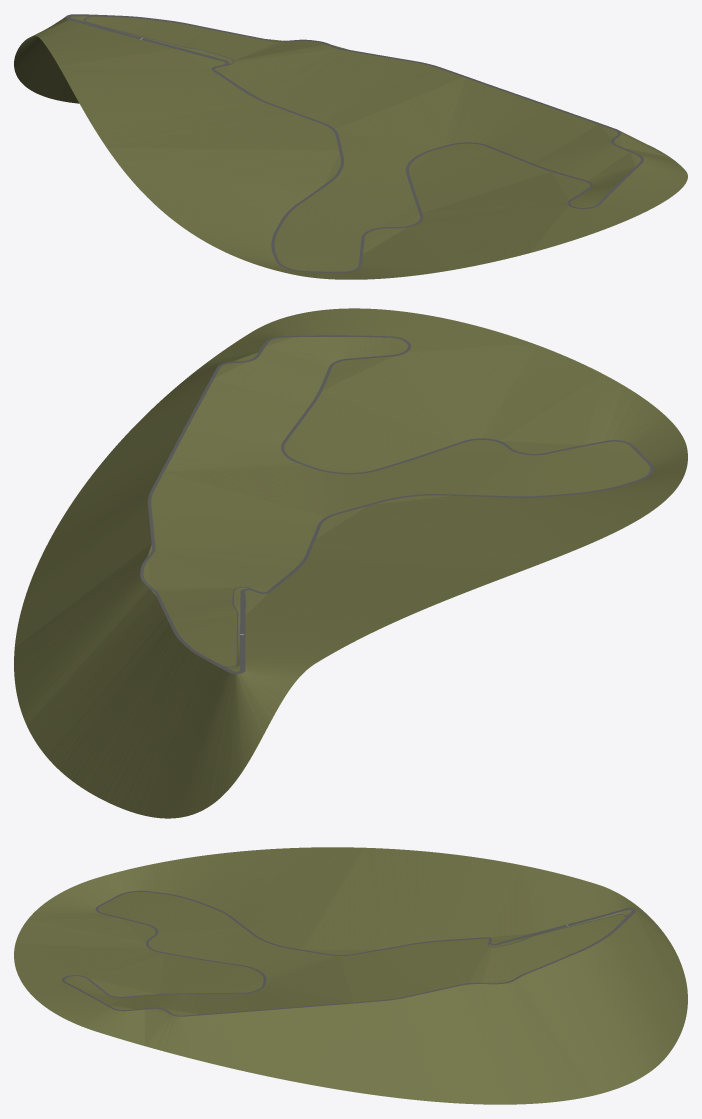
File: Spa_Circuit_Base.fbx
3 views of the same model, one above another, from view 1: azimuth 30°, elevation 25°; view 2: azimuth 150°, elevation 25°; view 3: azimuth 270°, elevation 25° (orthographic). The views are drawn at different scales.
Parts seen in each view (by area): view 1: Terrain_Ground, Roads_Road; view 2: Terrain_Ground, Roads_Road; view 3: Terrain_Ground, Roads_Road.
Part boxes in pixels (bbox=[...]): Terrain_Ground: bbox=[14, 16, 687, 279]; Roads_Road: bbox=[66, 14, 643, 272]; Terrain_Ground: bbox=[14, 308, 687, 818]; Roads_Road: bbox=[140, 335, 653, 673]; Terrain_Ground: bbox=[14, 847, 687, 1104]; Roads_Road: bbox=[62, 890, 635, 1016].
Size of the model in its own units: 1634 by 2436 by 483.
Materials: 3 (2 with a texture image).
